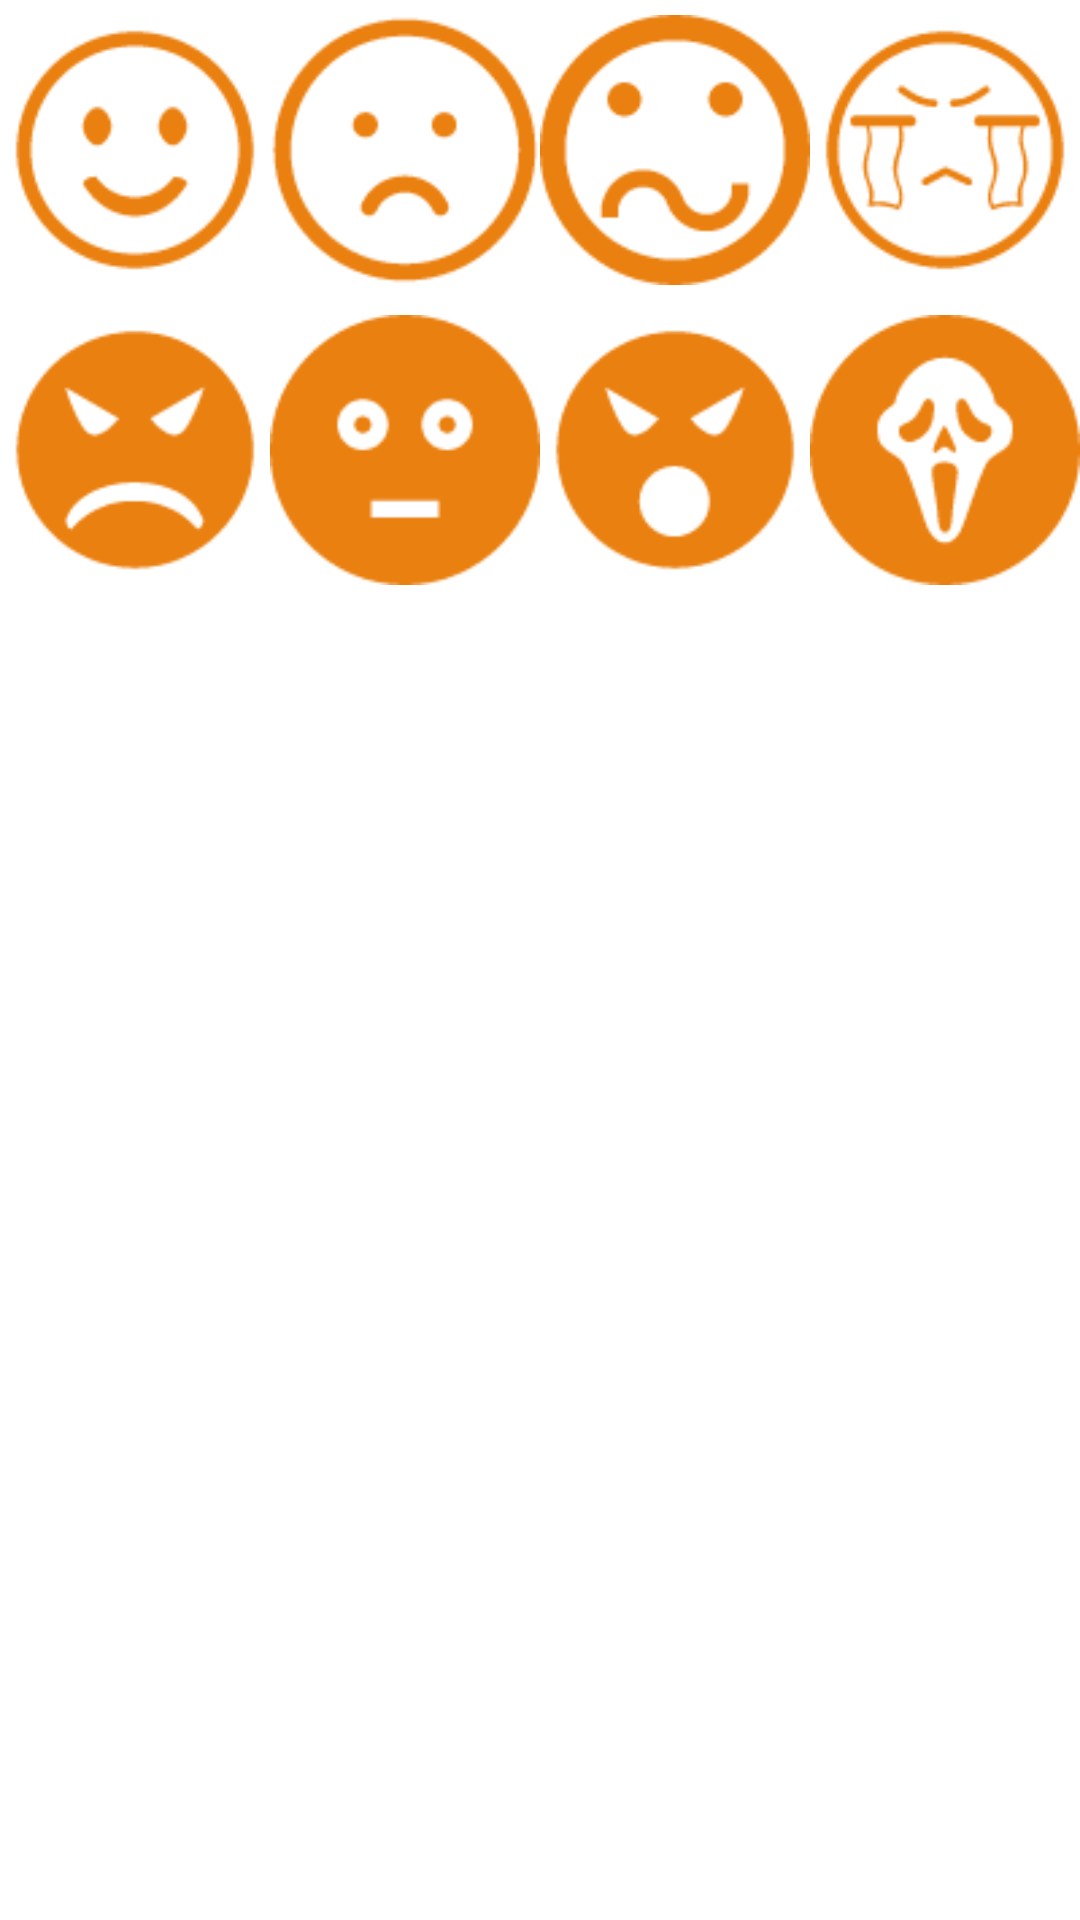

Where icons sit on this 1080px×1920px app screen, as {"x1": x1, "y1": y1, "x2": x2, "y2": y2}:
emoji five: {"x1": 15, "y1": 330, "x2": 255, "y2": 570}
emoji four: {"x1": 825, "y1": 30, "x2": 1065, "y2": 270}
emoji one: {"x1": 15, "y1": 30, "x2": 255, "y2": 270}
emoji seven: {"x1": 555, "y1": 330, "x2": 795, "y2": 570}
emoji six: {"x1": 270, "y1": 315, "x2": 540, "y2": 585}
emoji three: {"x1": 540, "y1": 15, "x2": 810, "y2": 285}
emoji two: {"x1": 272, "y1": 17, "x2": 538, "y2": 283}
